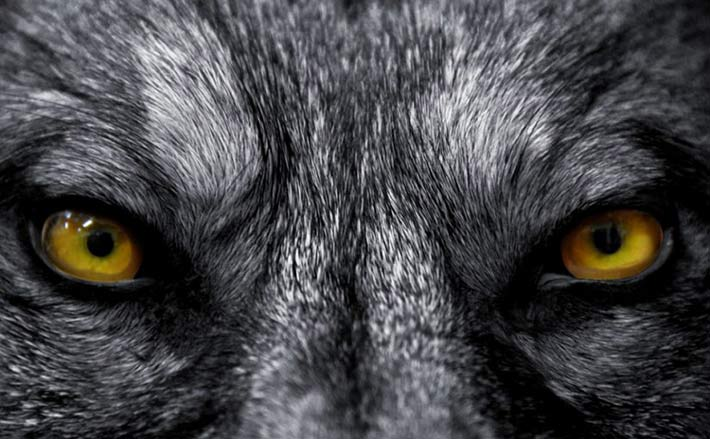Lobo: (1, 5, 696, 425)
